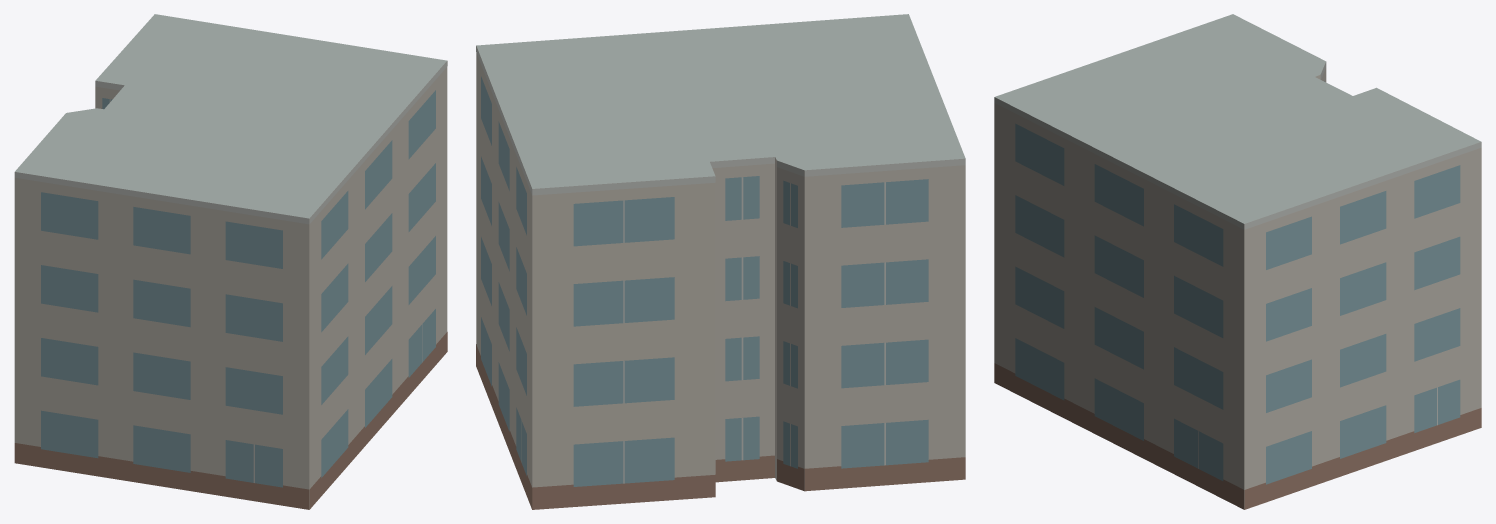
File: survey-upis-32961154.glb
The picture shows the model from 3 angles, left to right: view 1: azimuth 30°, elevation 25°; view 2: azimuth 150°, elevation 25°; view 3: azimuth 270°, elevation 25°; orthographic projection. The views are drawn at different scales.
Parts seen in each view (by area): view 1: survey-upis-32961154.tmp; view 2: survey-upis-32961154.tmp; view 3: survey-upis-32961154.tmp.
Part boxes in pixels (x1,y1,x2,y2): survey-upis-32961154.tmp: (14, 14, 447, 509); survey-upis-32961154.tmp: (476, 14, 965, 509); survey-upis-32961154.tmp: (994, 14, 1481, 509).
Size of the model in its own units: 18.91 by 12 by 18.54.
